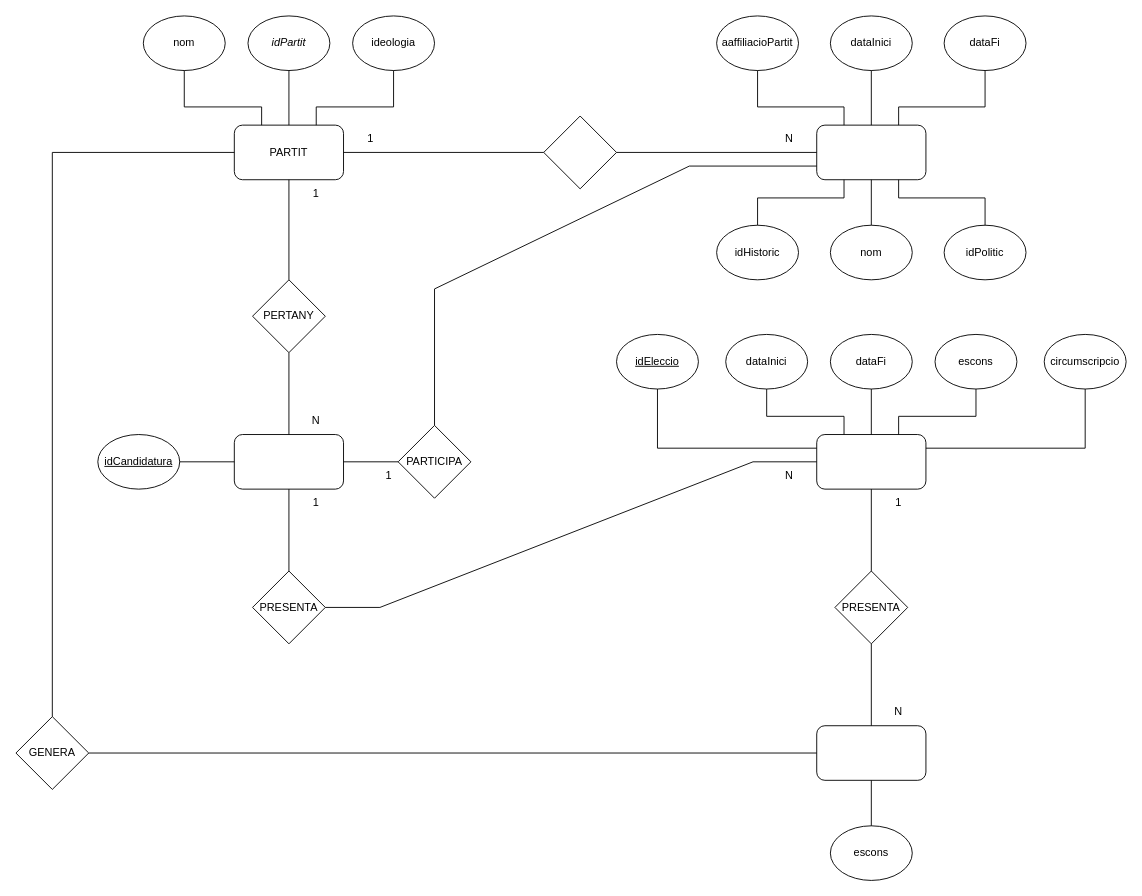
This 1142x896 diagram has some shape labels left out. The centre of each missing label's shape, as x and y in pixels:
AFFILIAT: point 580,152
CANDIDATURA: point 288,461
ELECCIO: point 871,461
POLITIC: point 871,152
RESULTAT: point 871,752
